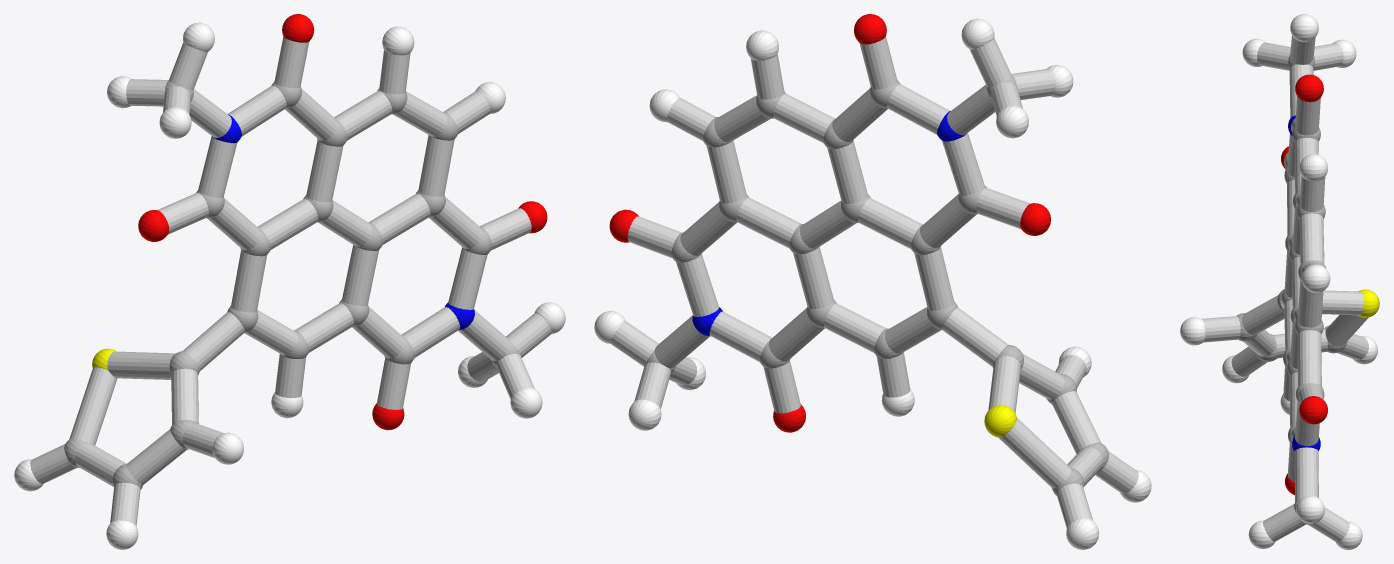
Rendered from Dimethyl_Naphthalene_Dicarboximide_Phi_20_Theta_260_Thiophene.glb.
3 views of the same model, side by side, from view 1: azimuth 30°, elevation 25°; view 2: azimuth 150°, elevation 25°; view 3: azimuth 270°, elevation 25° (orthographic). The views are drawn at different scales.
Visible parts, largest first — view 1: grp14119, grp7241, grp1, grp12309, grp11585; view 2: grp14119, grp7241, grp1, grp12309, grp13757, grp11585; view 3: grp14119, grp7241, grp1, grp12309, grp13757.
Boxes of the visible parts, <box> form: grp14119: <box>30,36,551,526</box>; grp7241: <box>14,22,565,549</box>; grp1: <box>64,81,520,489</box>; grp12309: <box>138,14,547,430</box>; grp11585: <box>212,114,474,329</box>; grp14119: <box>610,36,1138,528</box>; grp7241: <box>594,18,1151,549</box>; grp1: <box>646,75,1108,495</box>; grp12309: <box>609,14,1050,432</box>; grp13757: <box>984,405,1016,437</box>; grp11585: <box>692,111,966,335</box>; grp14119: <box>1202,35,1368,542</box>; grp7241: <box>1180,14,1377,549</box>; grp1: <box>1236,54,1347,524</box>; grp12309: <box>1281,74,1327,494</box>; grp13757: <box>1358,289,1379,317</box>.
Bounding box in the file's own units: 11.12 × 9.62 × 4.18.
